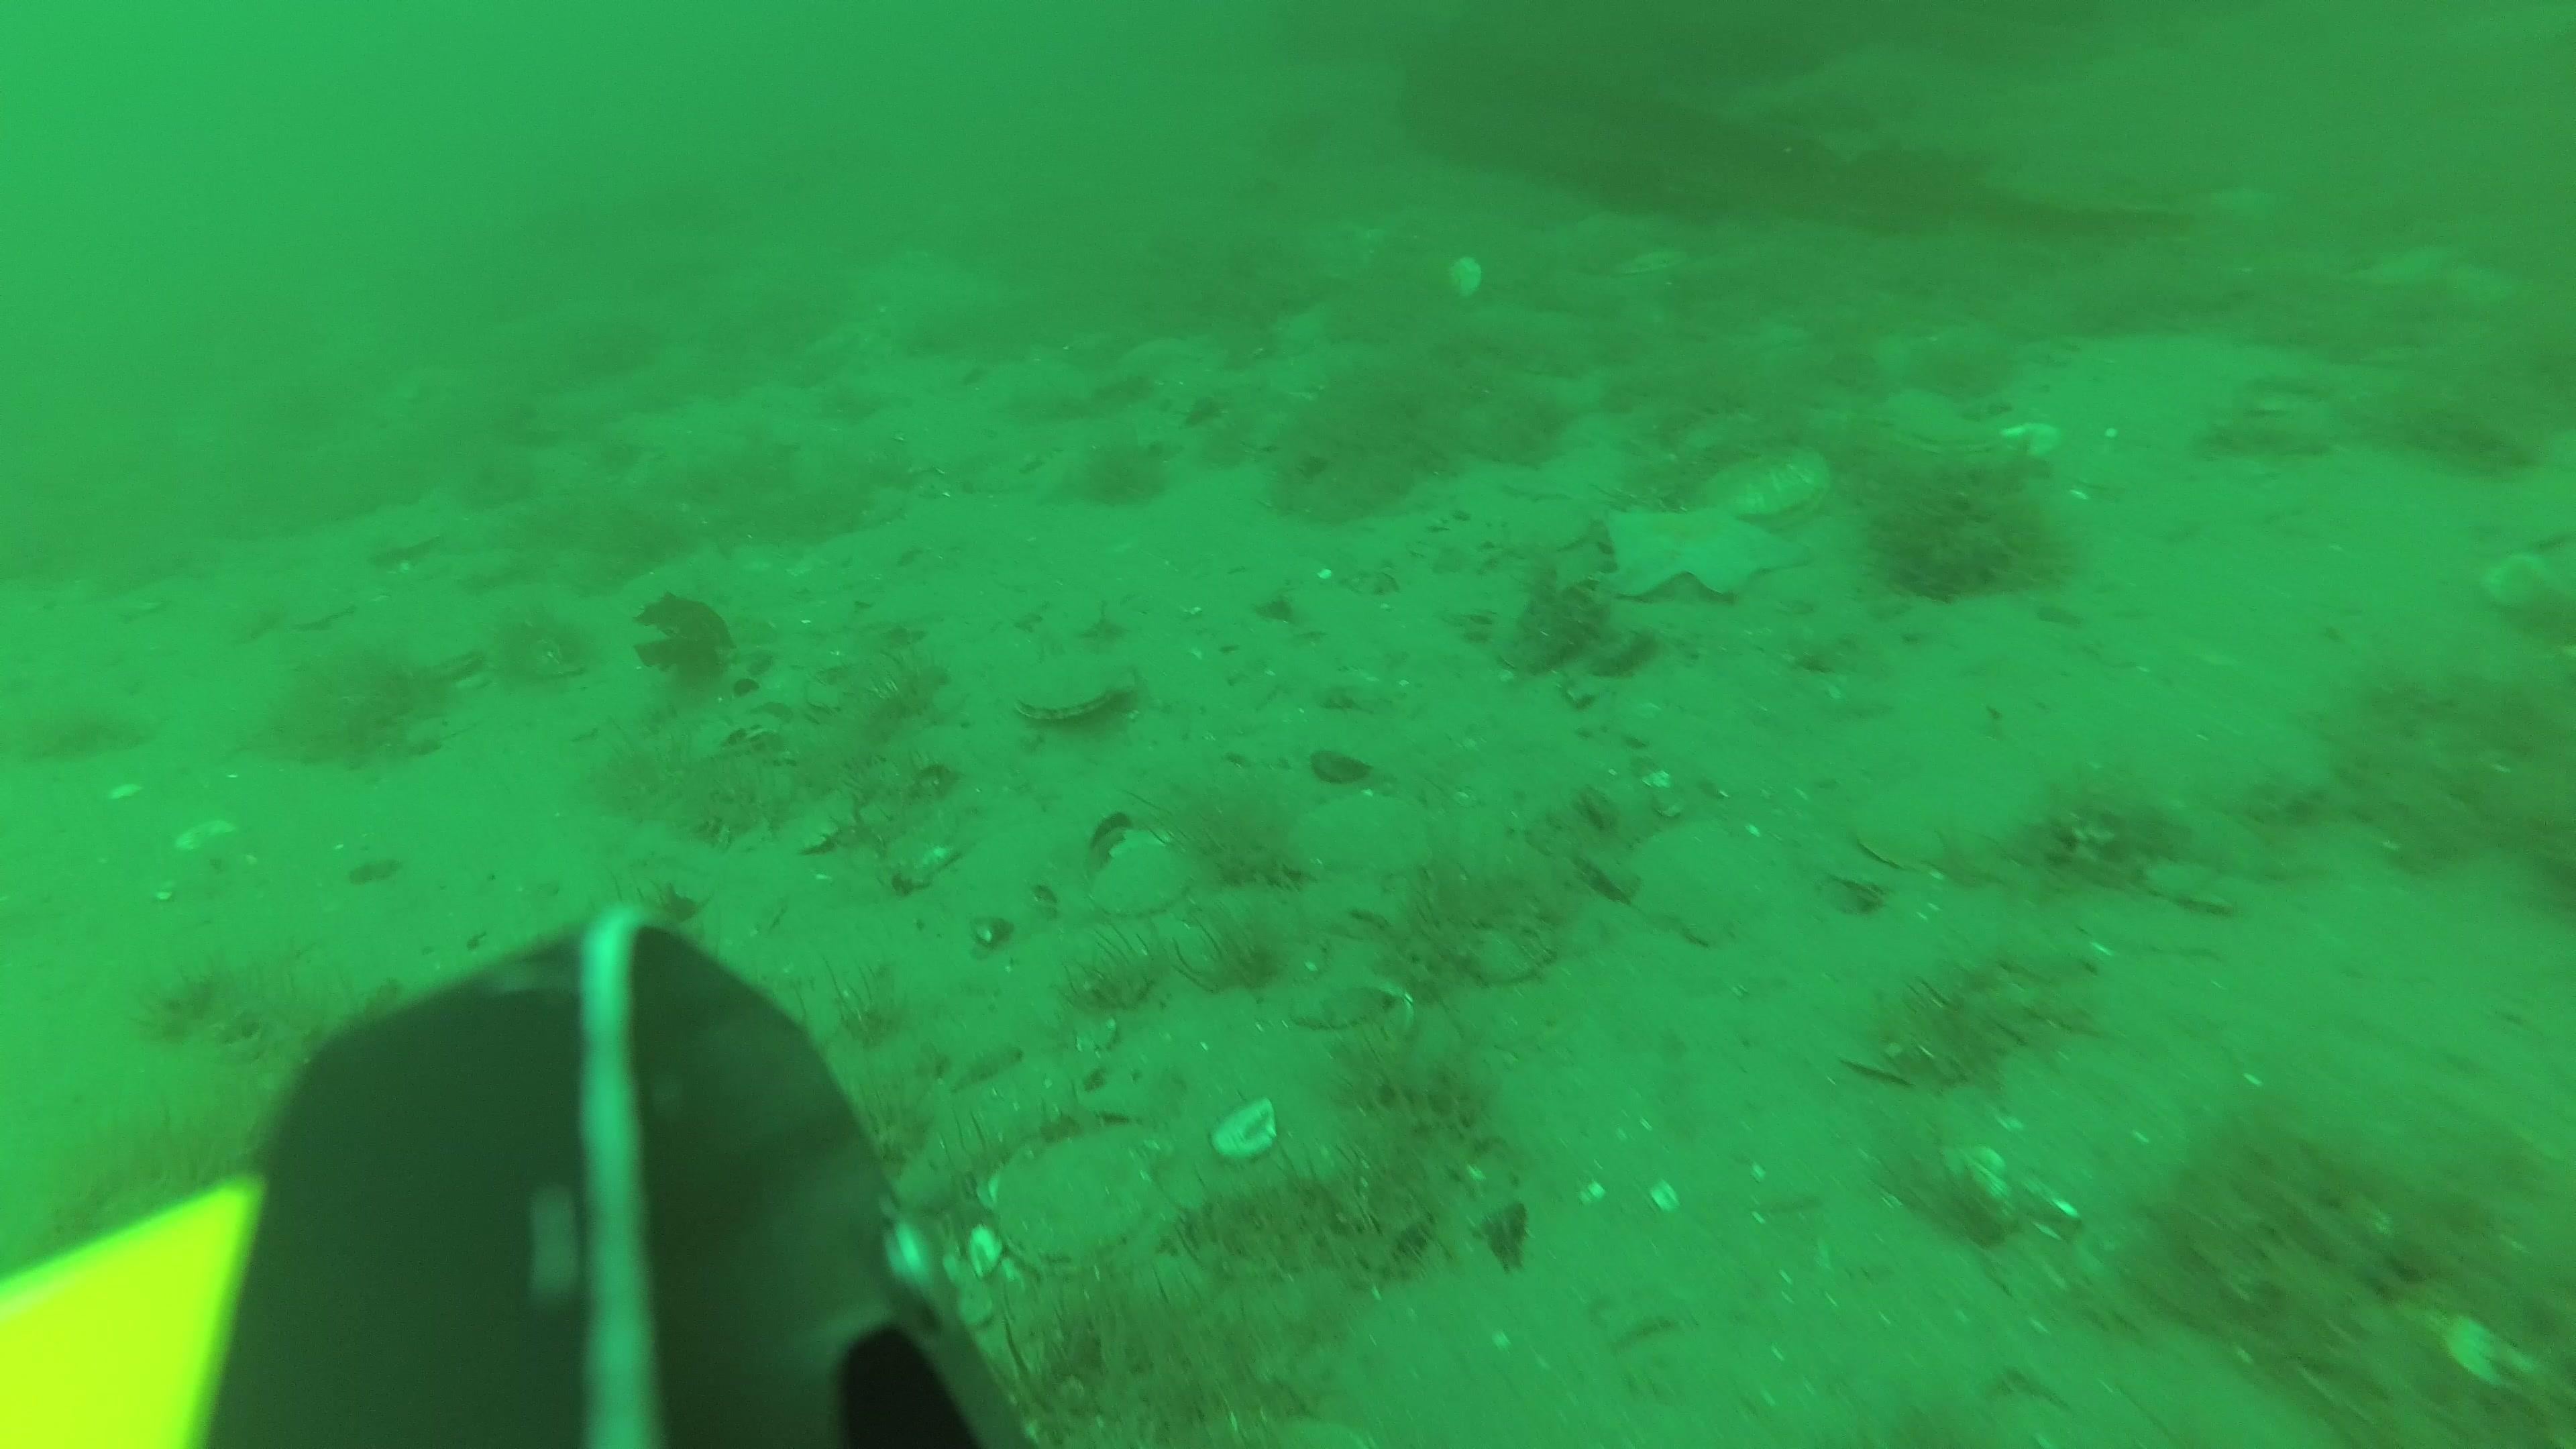scallop: (989, 1143, 1161, 1265), (1863, 386, 2005, 460), (1704, 444, 1836, 518), (1016, 642, 1138, 713), (1608, 242, 1691, 272), (1444, 249, 1484, 303)
starfish: (1614, 501, 1801, 591)
